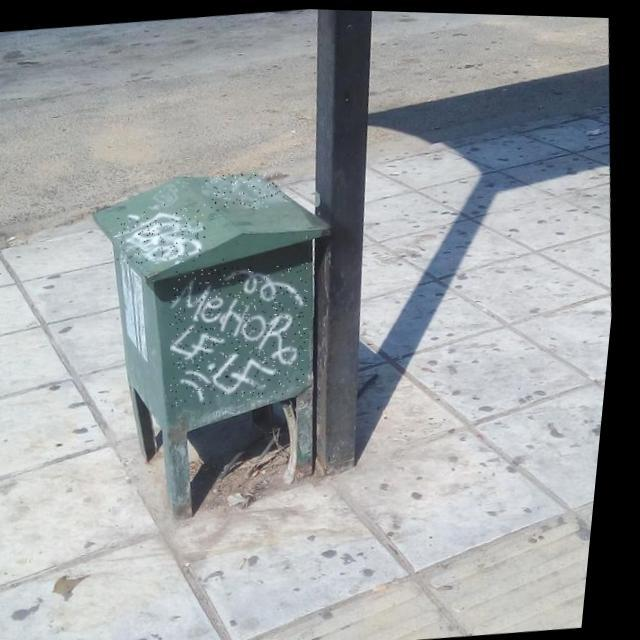-: (165, 256, 326, 408), (116, 203, 215, 268), (202, 166, 290, 212), (147, 180, 191, 212)
